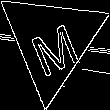M_NW: (23, 8, 81, 73)
